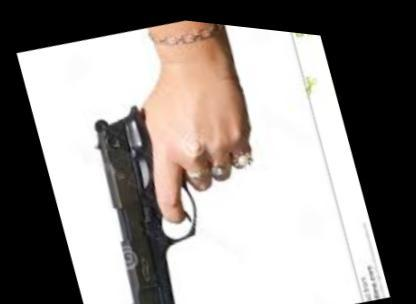pistol: (60, 59, 307, 301)
